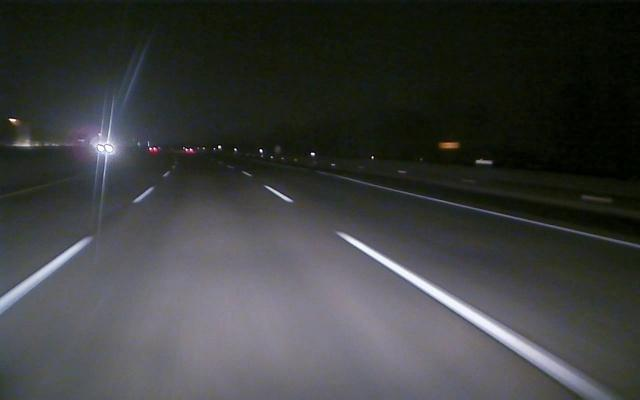lane: (245, 172, 620, 398), (1, 189, 151, 312), (373, 184, 640, 248)
